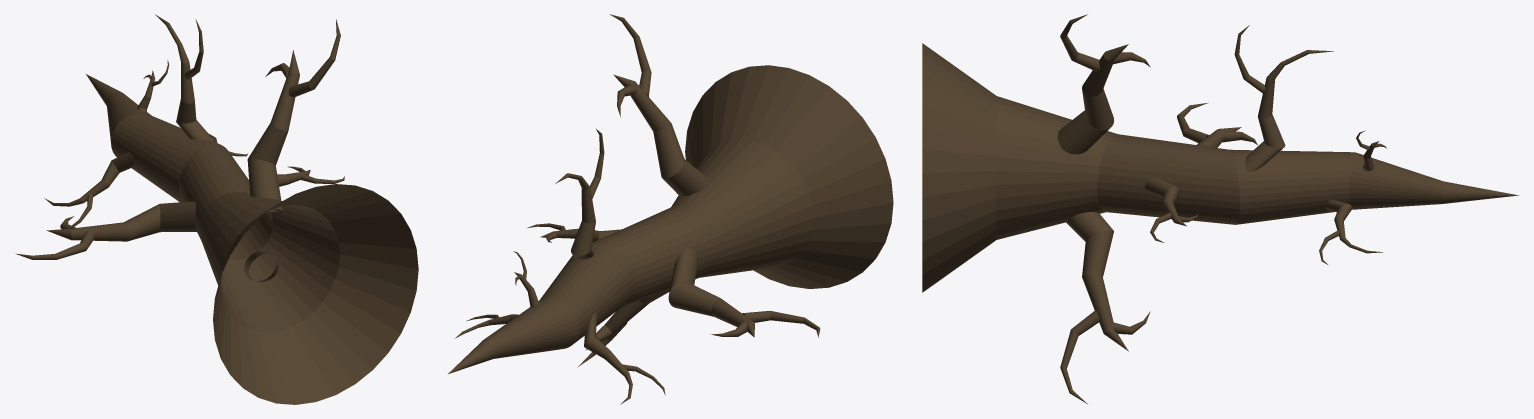
Rendered from dead tree.fbx.
3 renders of one model, left to right at view 1: azimuth 30°, elevation 25°; view 2: azimuth 150°, elevation 25°; view 3: azimuth 270°, elevation 25°, orthographic. The views are drawn at different scales.
Visible parts, largest first — view 1: Circle; view 2: Circle; view 3: Circle.
Part boxes in pixels (box(x1,y1,x2,y2)): Circle: box(15, 14, 418, 404); Circle: box(448, 14, 893, 404); Circle: box(922, 14, 1518, 404).
Bounding box in the file's own units: 209 × 230 × 332.
